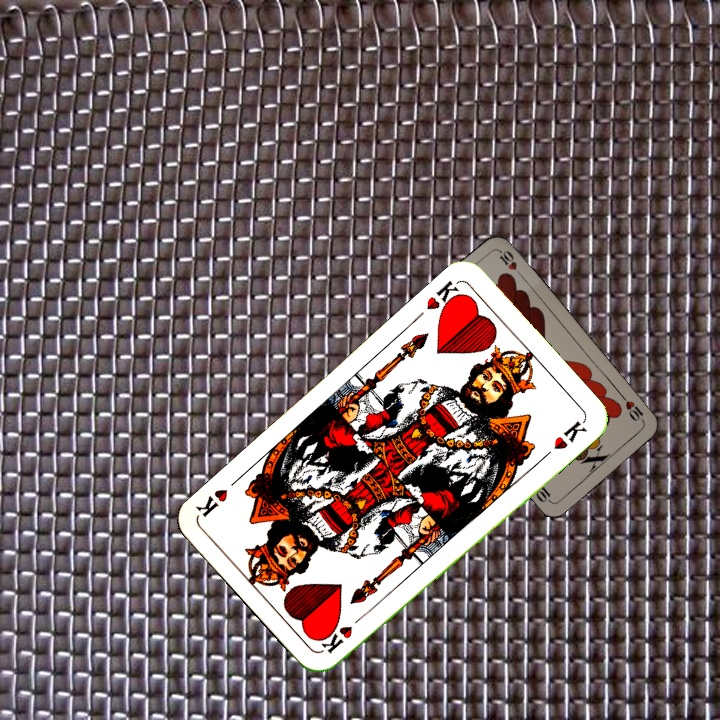H10: (617, 392, 647, 426)
HK: (316, 609, 368, 657), (422, 276, 467, 318)
